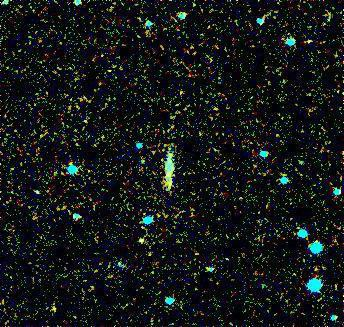star: (44, 290, 74, 320)
